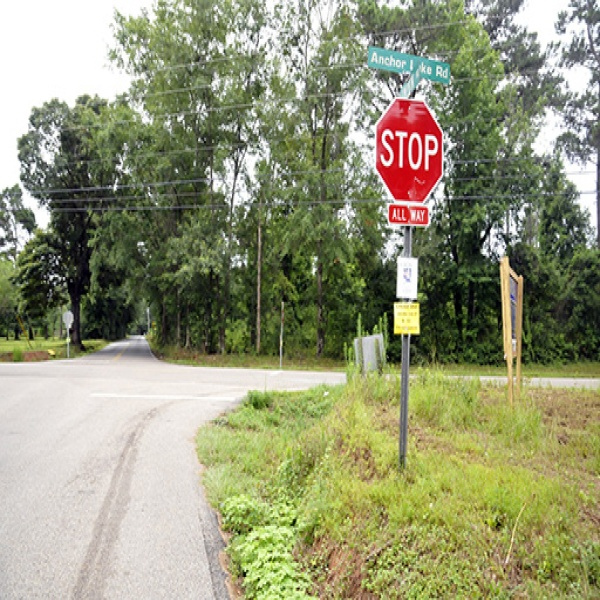stop: (375, 95, 442, 204)
